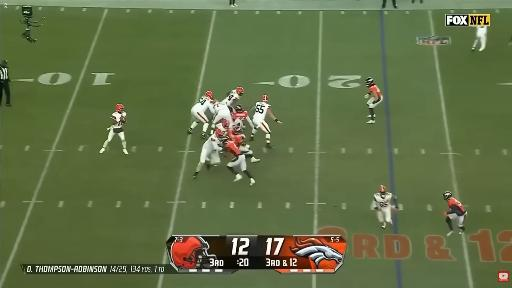Helmet: (379, 185, 387, 198), (365, 77, 374, 87), (235, 86, 244, 96), (215, 129, 223, 139), (116, 104, 124, 112), (205, 91, 213, 99), (233, 126, 241, 134), (235, 104, 243, 112), (443, 192, 452, 199), (222, 120, 229, 128), (379, 185, 386, 193), (261, 95, 268, 102), (228, 106, 233, 113), (222, 137, 228, 142), (213, 101, 218, 104)
Jersey: (193, 96, 215, 113), (253, 102, 270, 122), (374, 192, 393, 209), (448, 198, 465, 216), (203, 135, 220, 152), (222, 90, 240, 105), (111, 112, 126, 130), (226, 141, 241, 156), (214, 102, 230, 114), (216, 123, 232, 134), (369, 85, 381, 99), (231, 135, 244, 147), (232, 111, 248, 120), (477, 27, 487, 36)
Player: (250, 95, 282, 148), (193, 130, 224, 178), (223, 139, 255, 185), (100, 104, 128, 154), (188, 91, 215, 138), (230, 126, 259, 162), (373, 186, 396, 229), (443, 192, 466, 235), (365, 78, 383, 123), (211, 102, 233, 134), (232, 105, 254, 130), (222, 87, 243, 105), (472, 27, 487, 51), (216, 120, 229, 135)
